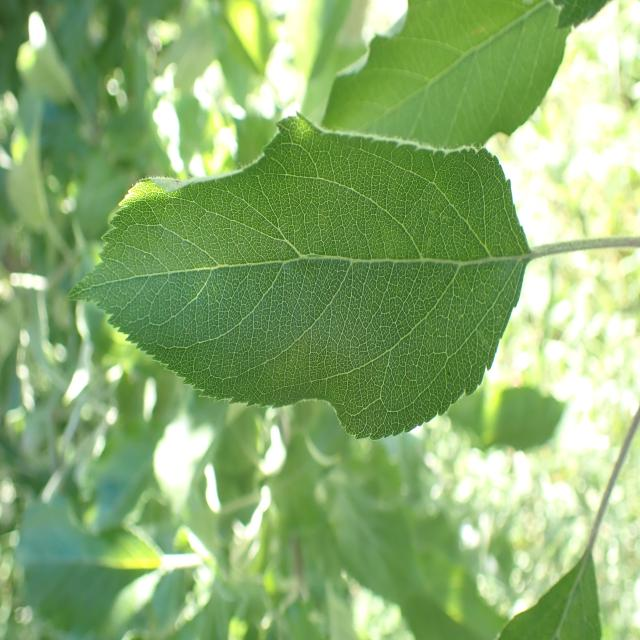healthy: (66, 113, 531, 441), (322, 0, 572, 152)
